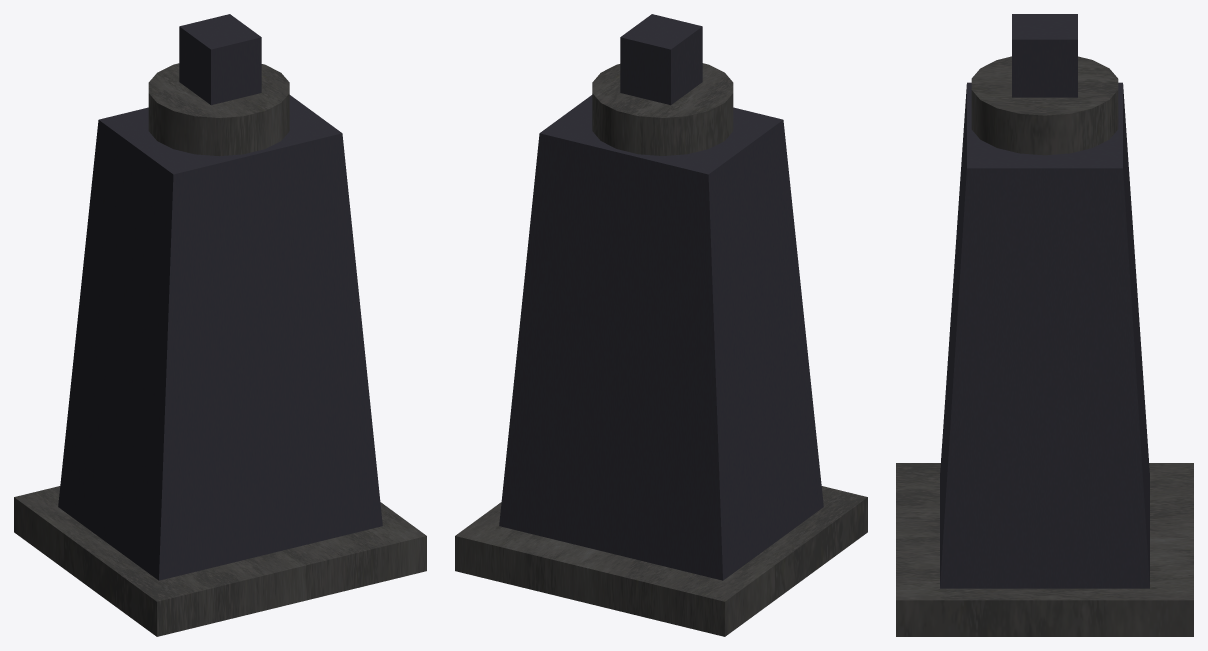
The model's file is Column ver3.fbx.
3 views of the same model, side by side, from view 1: azimuth 30°, elevation 25°; view 2: azimuth 150°, elevation 25°; view 3: azimuth 270°, elevation 25° (orthographic). The views are drawn at different scales.
Visible parts, largest first — view 1: Box016; view 2: Box016; view 3: Box016.
Boxes of the visible parts, left/top/right/bottom form: Box016: left=14, top=14, right=426, bottom=636; Box016: left=455, top=14, right=867, bottom=636; Box016: left=896, top=14, right=1193, bottom=636.
Bounding box in the file's own units: 15444 × 28427 × 14167.
Materials: 1 (1 with a texture image).
